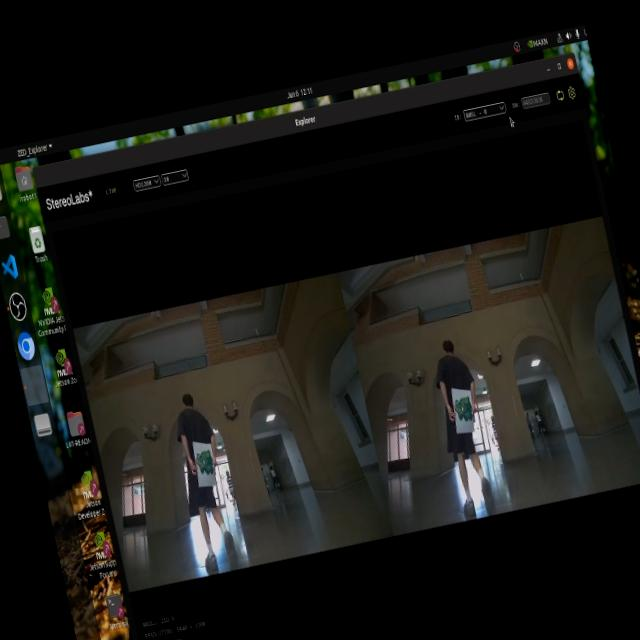green: (194, 448, 221, 489), (448, 394, 474, 428)
